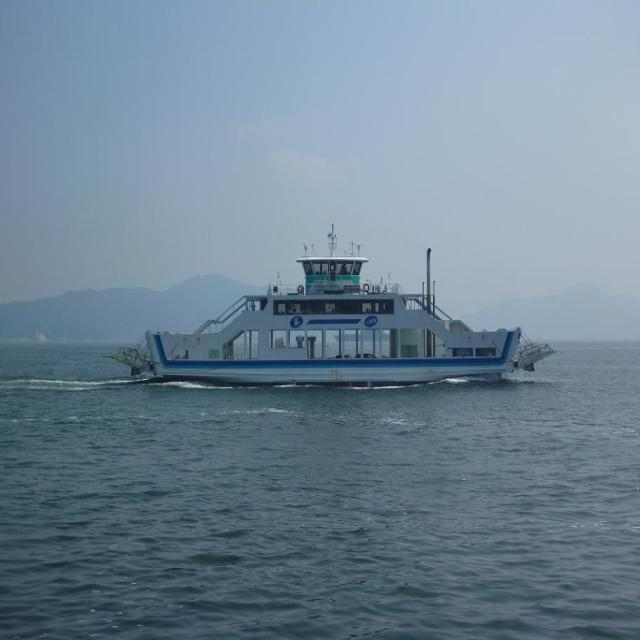passenger ship: (119, 245, 550, 391)
